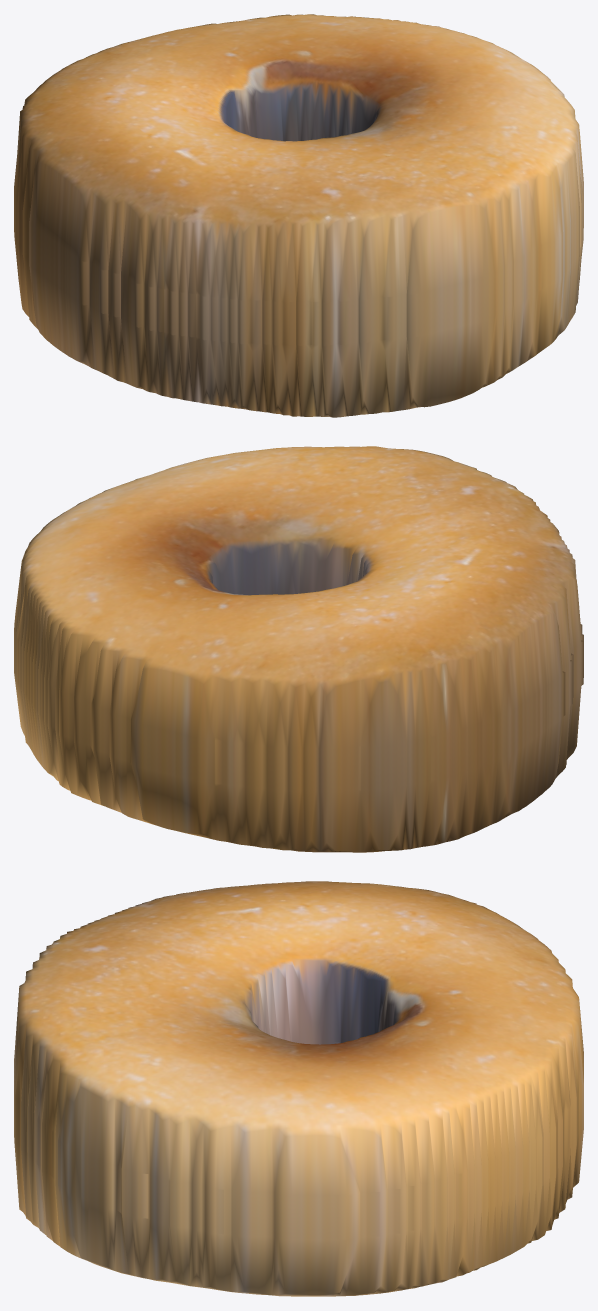
The model's file is donut_5_1.obj.
3 views of the same model, one above another, from view 1: azimuth 30°, elevation 25°; view 2: azimuth 150°, elevation 25°; view 3: azimuth 270°, elevation 25° (orthographic). The views are drawn at different scales.
Parts seen in each view (by area): view 1: Grid; view 2: Grid; view 3: Grid.
Boxes of the visible parts, bbox=[...] form: Grid: bbox=[14, 14, 583, 417]; Grid: bbox=[14, 446, 583, 852]; Grid: bbox=[14, 881, 583, 1296].
Bounding box in the file's own units: 1.66 × 0.7 × 1.62.
